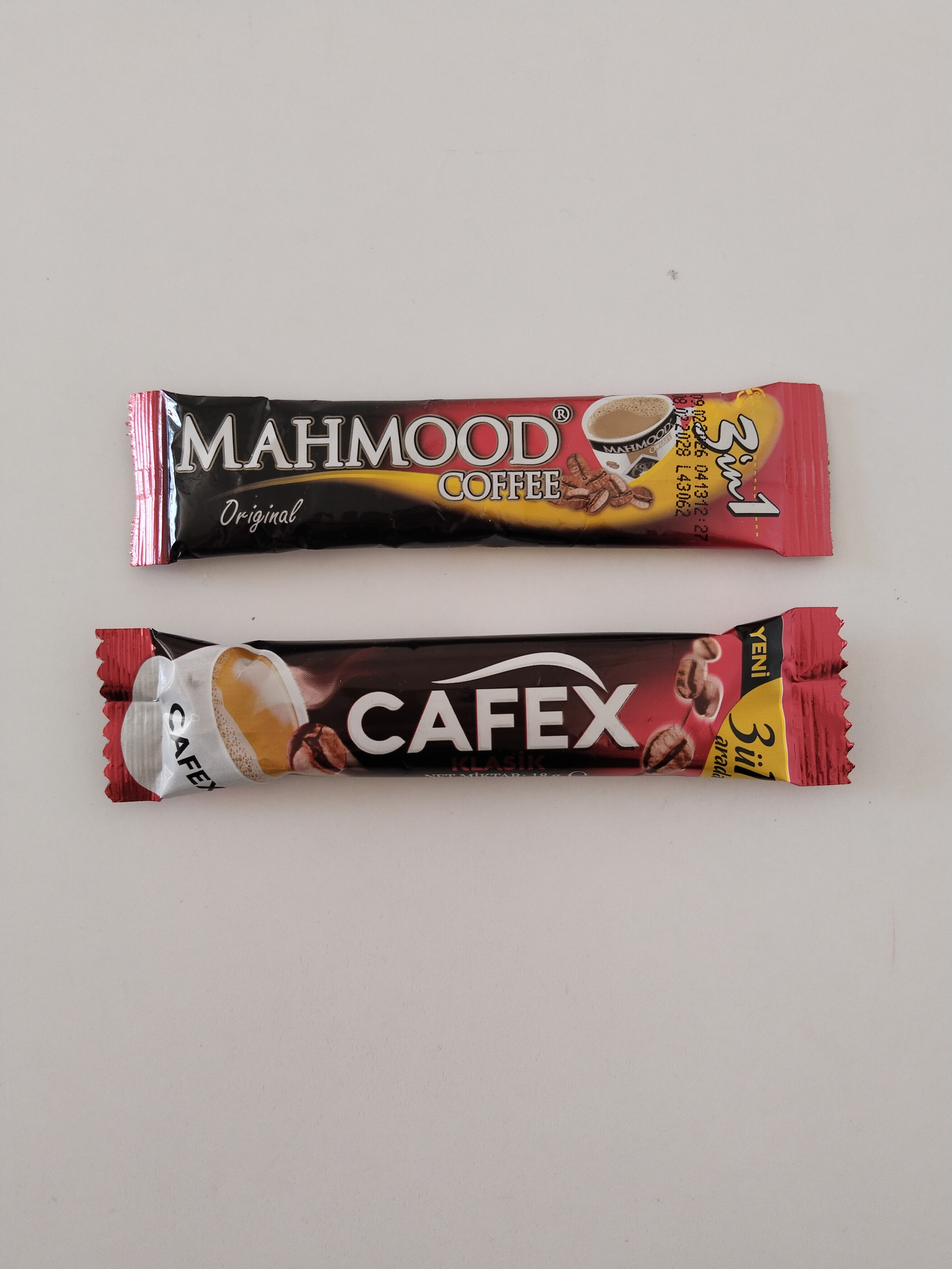cafex_kahve: (106, 612, 858, 801)
mahmood_kahve: (129, 385, 831, 565)
